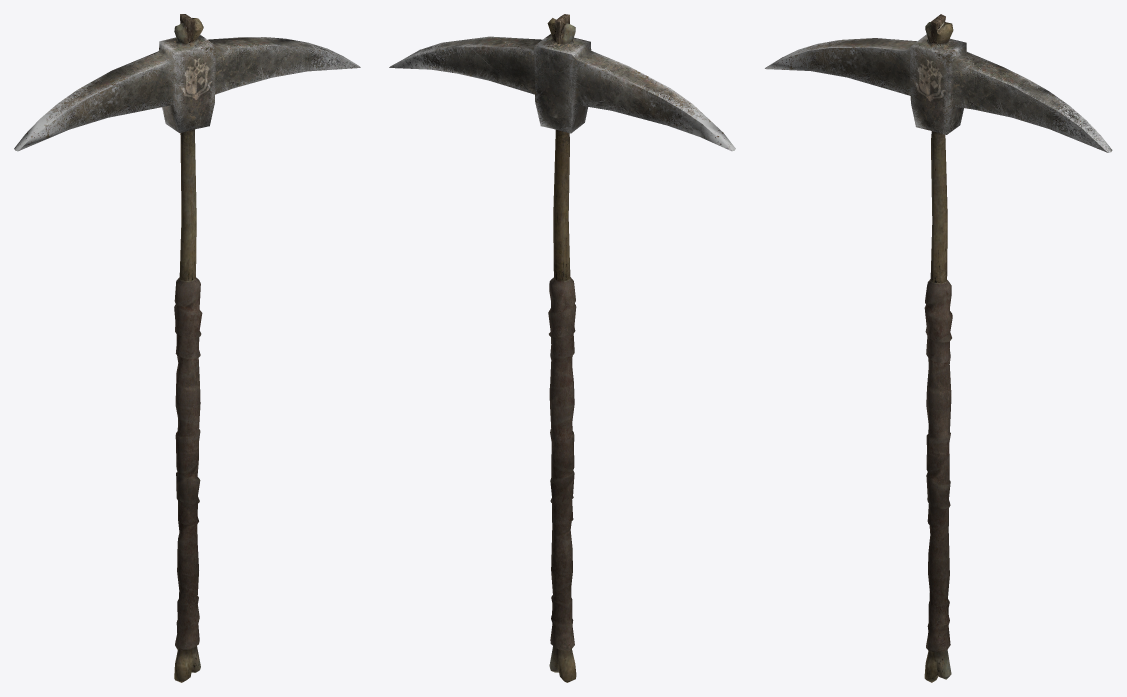
File: swo030.obj
3 views of the same model, side by side, from view 1: azimuth 30°, elevation 25°; view 2: azimuth 150°, elevation 25°; view 3: azimuth 330°, elevation 25° (orthographic).
Parts seen in each view (by area): view 1: swo030_000_LOD_1; view 2: swo030_000_LOD_1; view 3: swo030_000_LOD_1.
Part boxes in pixels (x1=…): swo030_000_LOD_1: x1=14, y1=14, x2=360, y2=682; swo030_000_LOD_1: x1=389, y1=14, x2=735, y2=682; swo030_000_LOD_1: x1=765, y1=14, x2=1112, y2=682.
Bounding box in the file's own units: 134 × 246 × 13.7.
